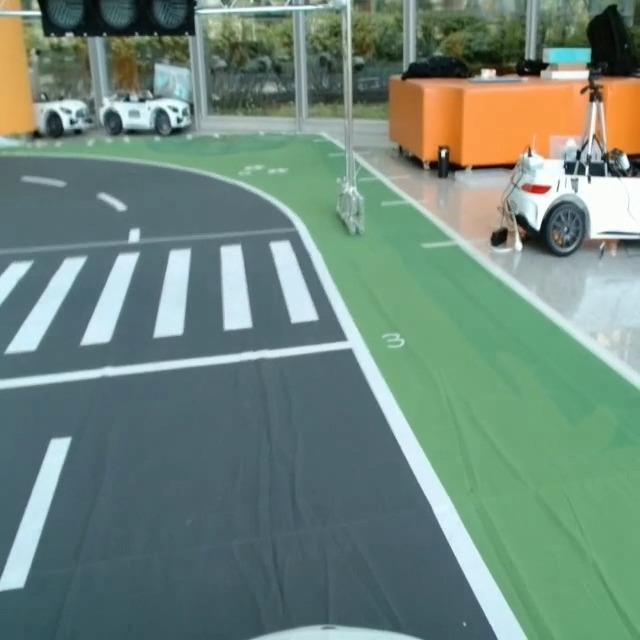traffic-light: (35, 0, 202, 43)
